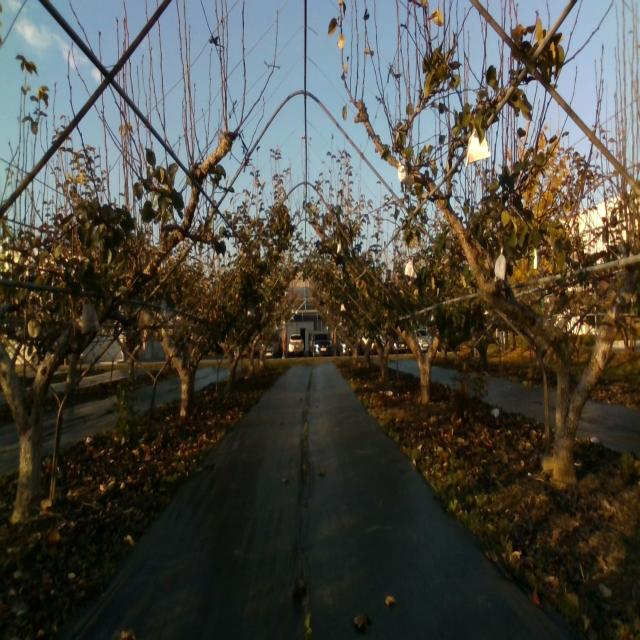pearbags: (465, 127, 490, 166), (82, 304, 100, 334), (494, 245, 506, 282), (398, 161, 413, 185), (404, 258, 418, 278), (161, 301, 171, 321)
